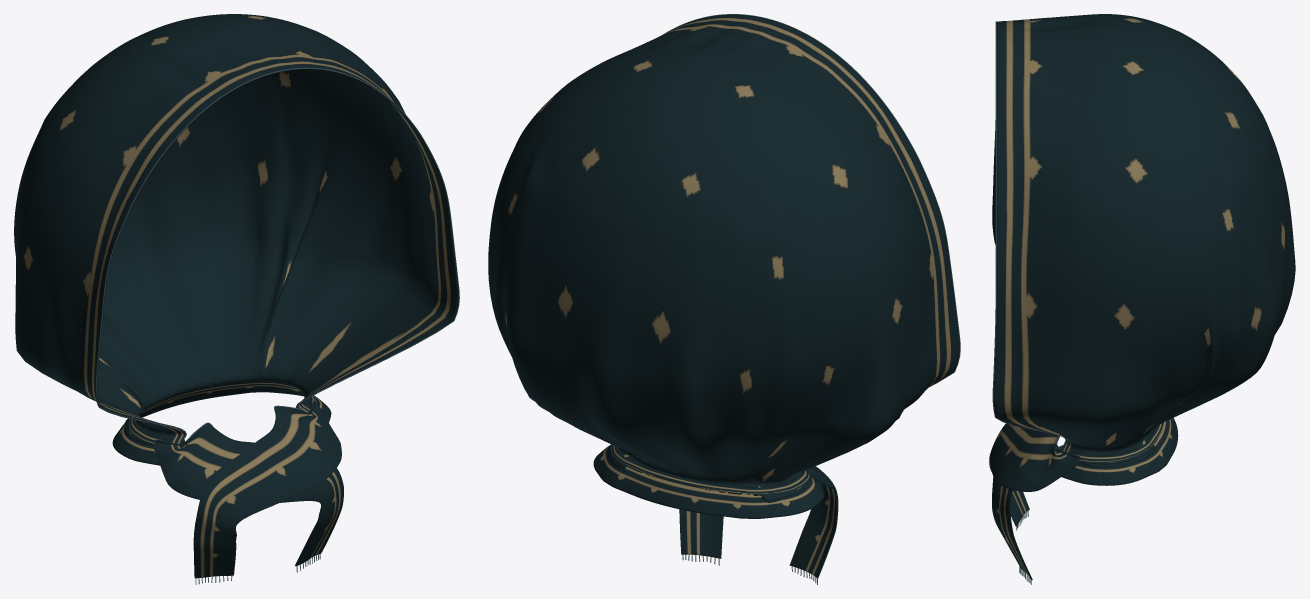
The model's file is Feminine-tank-pashmina238-headgear.glb.
The picture shows the model from 3 angles, left to right: view 1: azimuth 30°, elevation 25°; view 2: azimuth 150°, elevation 25°; view 3: azimuth 270°, elevation 25°; orthographic projection. The views are drawn at different scales.
Visible parts, largest first — view 1: 226 headgear / Headwear / continuous woven pashmina238, 226 headgear / Headwear / face edge238; view 2: 226 headgear / Headwear / continuous woven pashmina238, 226 headgear / Headwear / face edge238; view 3: 226 headgear / Headwear / continuous woven pashmina238, 226 headgear / Headwear / face edge238.
Boxes of the visible parts, x1=… form: 226 headgear / Headwear / continuous woven pashmina238: x1=14, y1=14, x2=458, y2=578; 226 headgear / Headwear / face edge238: x1=95, y1=67, x2=459, y2=442; 226 headgear / Headwear / continuous woven pashmina238: x1=488, y1=14, x2=959, y2=578; 226 headgear / Headwear / face edge238: x1=663, y1=14, x2=960, y2=387; 226 headgear / Headwear / continuous woven pashmina238: x1=989, y1=14, x2=1295, y2=579; 226 headgear / Headwear / face edge238: x1=992, y1=21, x2=1065, y2=447.
Size of the model in its own units: 1.02 by 1.35 by 0.7183.
Materials: 3 (1 with a texture image).
